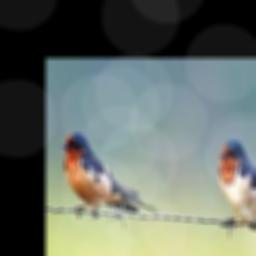Swallow: (59, 131, 157, 217), (217, 140, 256, 234)
